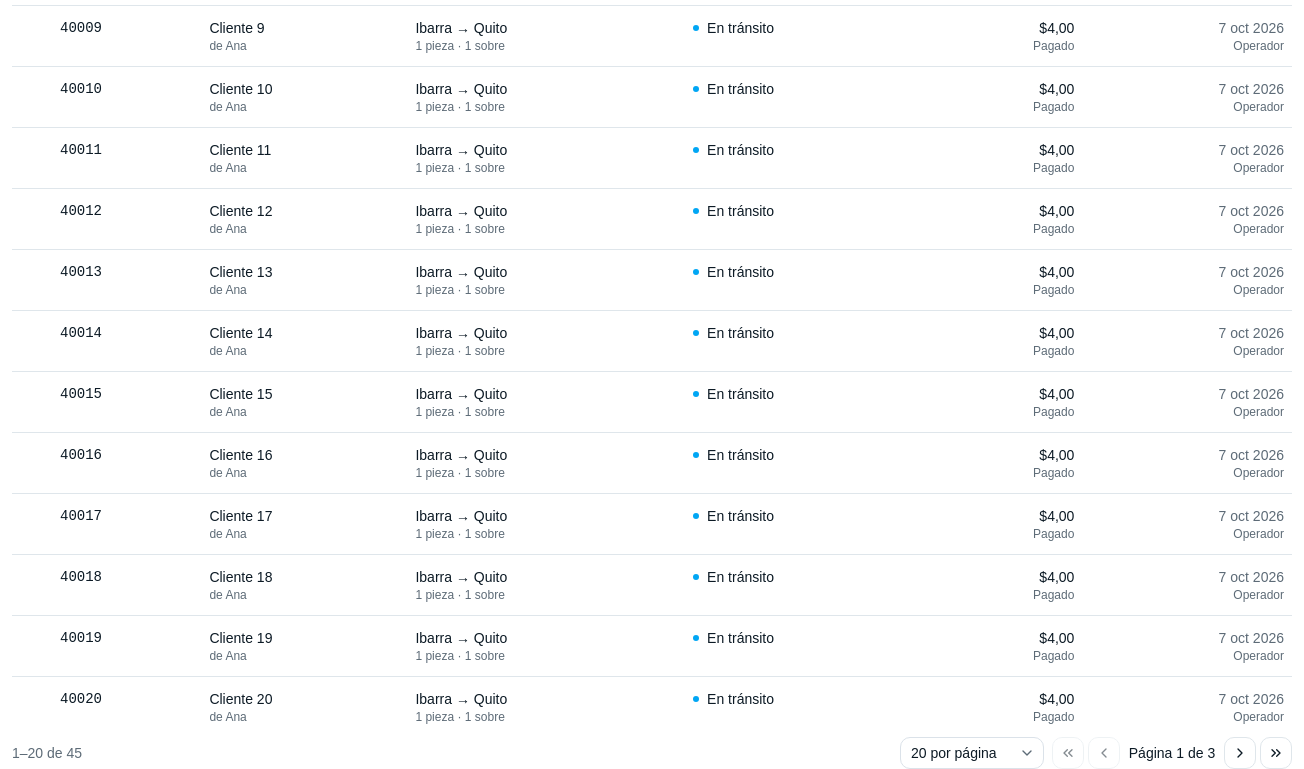
Scenario: EnviosPage › pide al servidor solo la página visible y navega entre páginas
(page scrolled)
Check: the text "1–20 de 45" is shown, box 12,742 -> 82,762
Click the button named "Página siguiente" at (1240, 752), box 1224,736 -> 1256,768
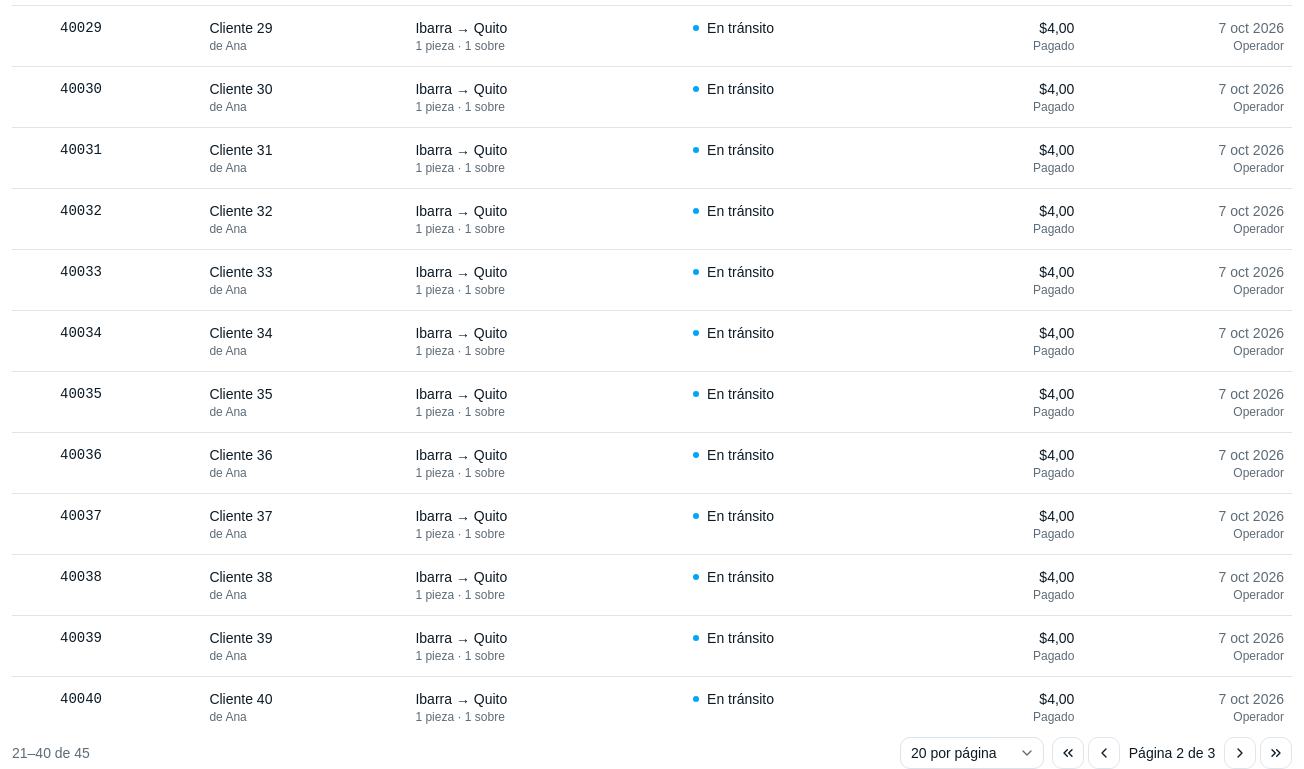
Check: the text "21–40 de 45" is shown, box 12,742 -> 90,762
Check: the text "Página 2 de 3" is shown, box 1124,742 -> 1220,762
Click the button named "Última página" at (1276, 752), box 1260,736 -> 1292,768
(page scrolled)
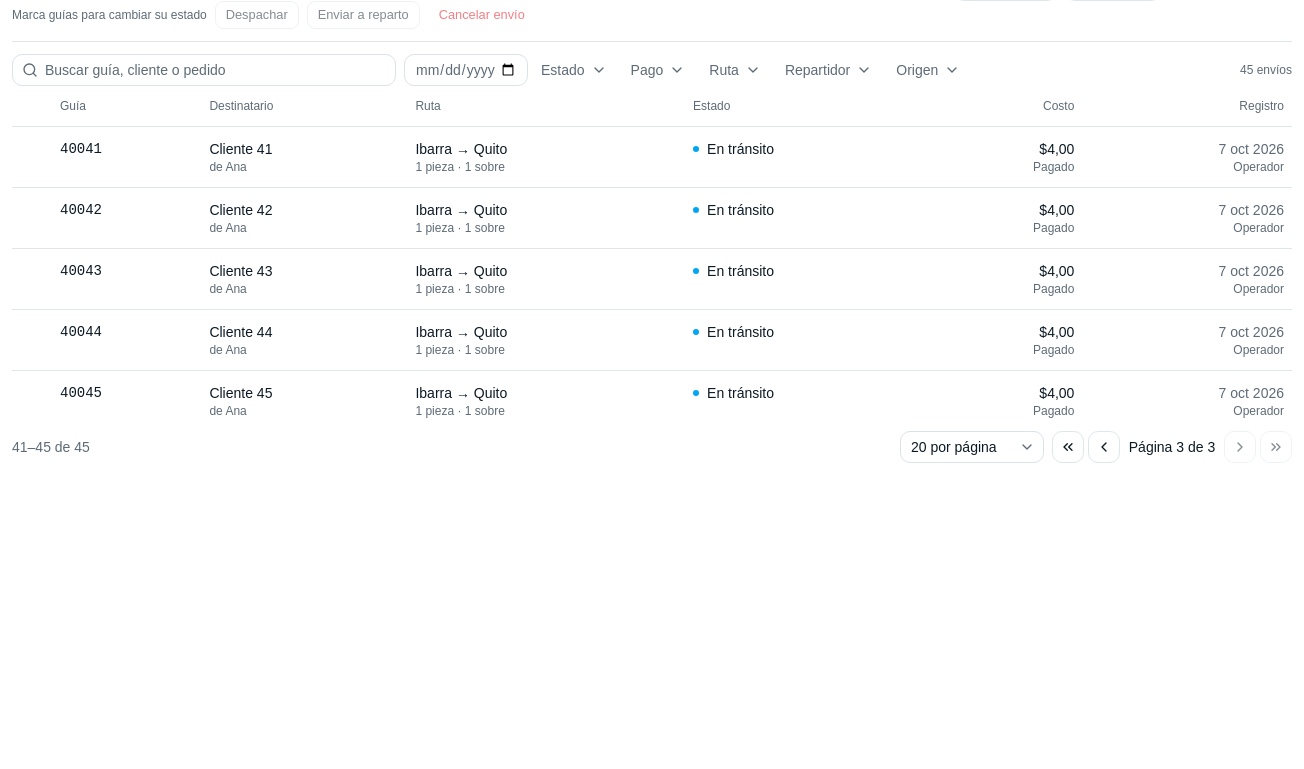
Check: the text "41–45 de 45" is shown, box 12,436 -> 90,456
